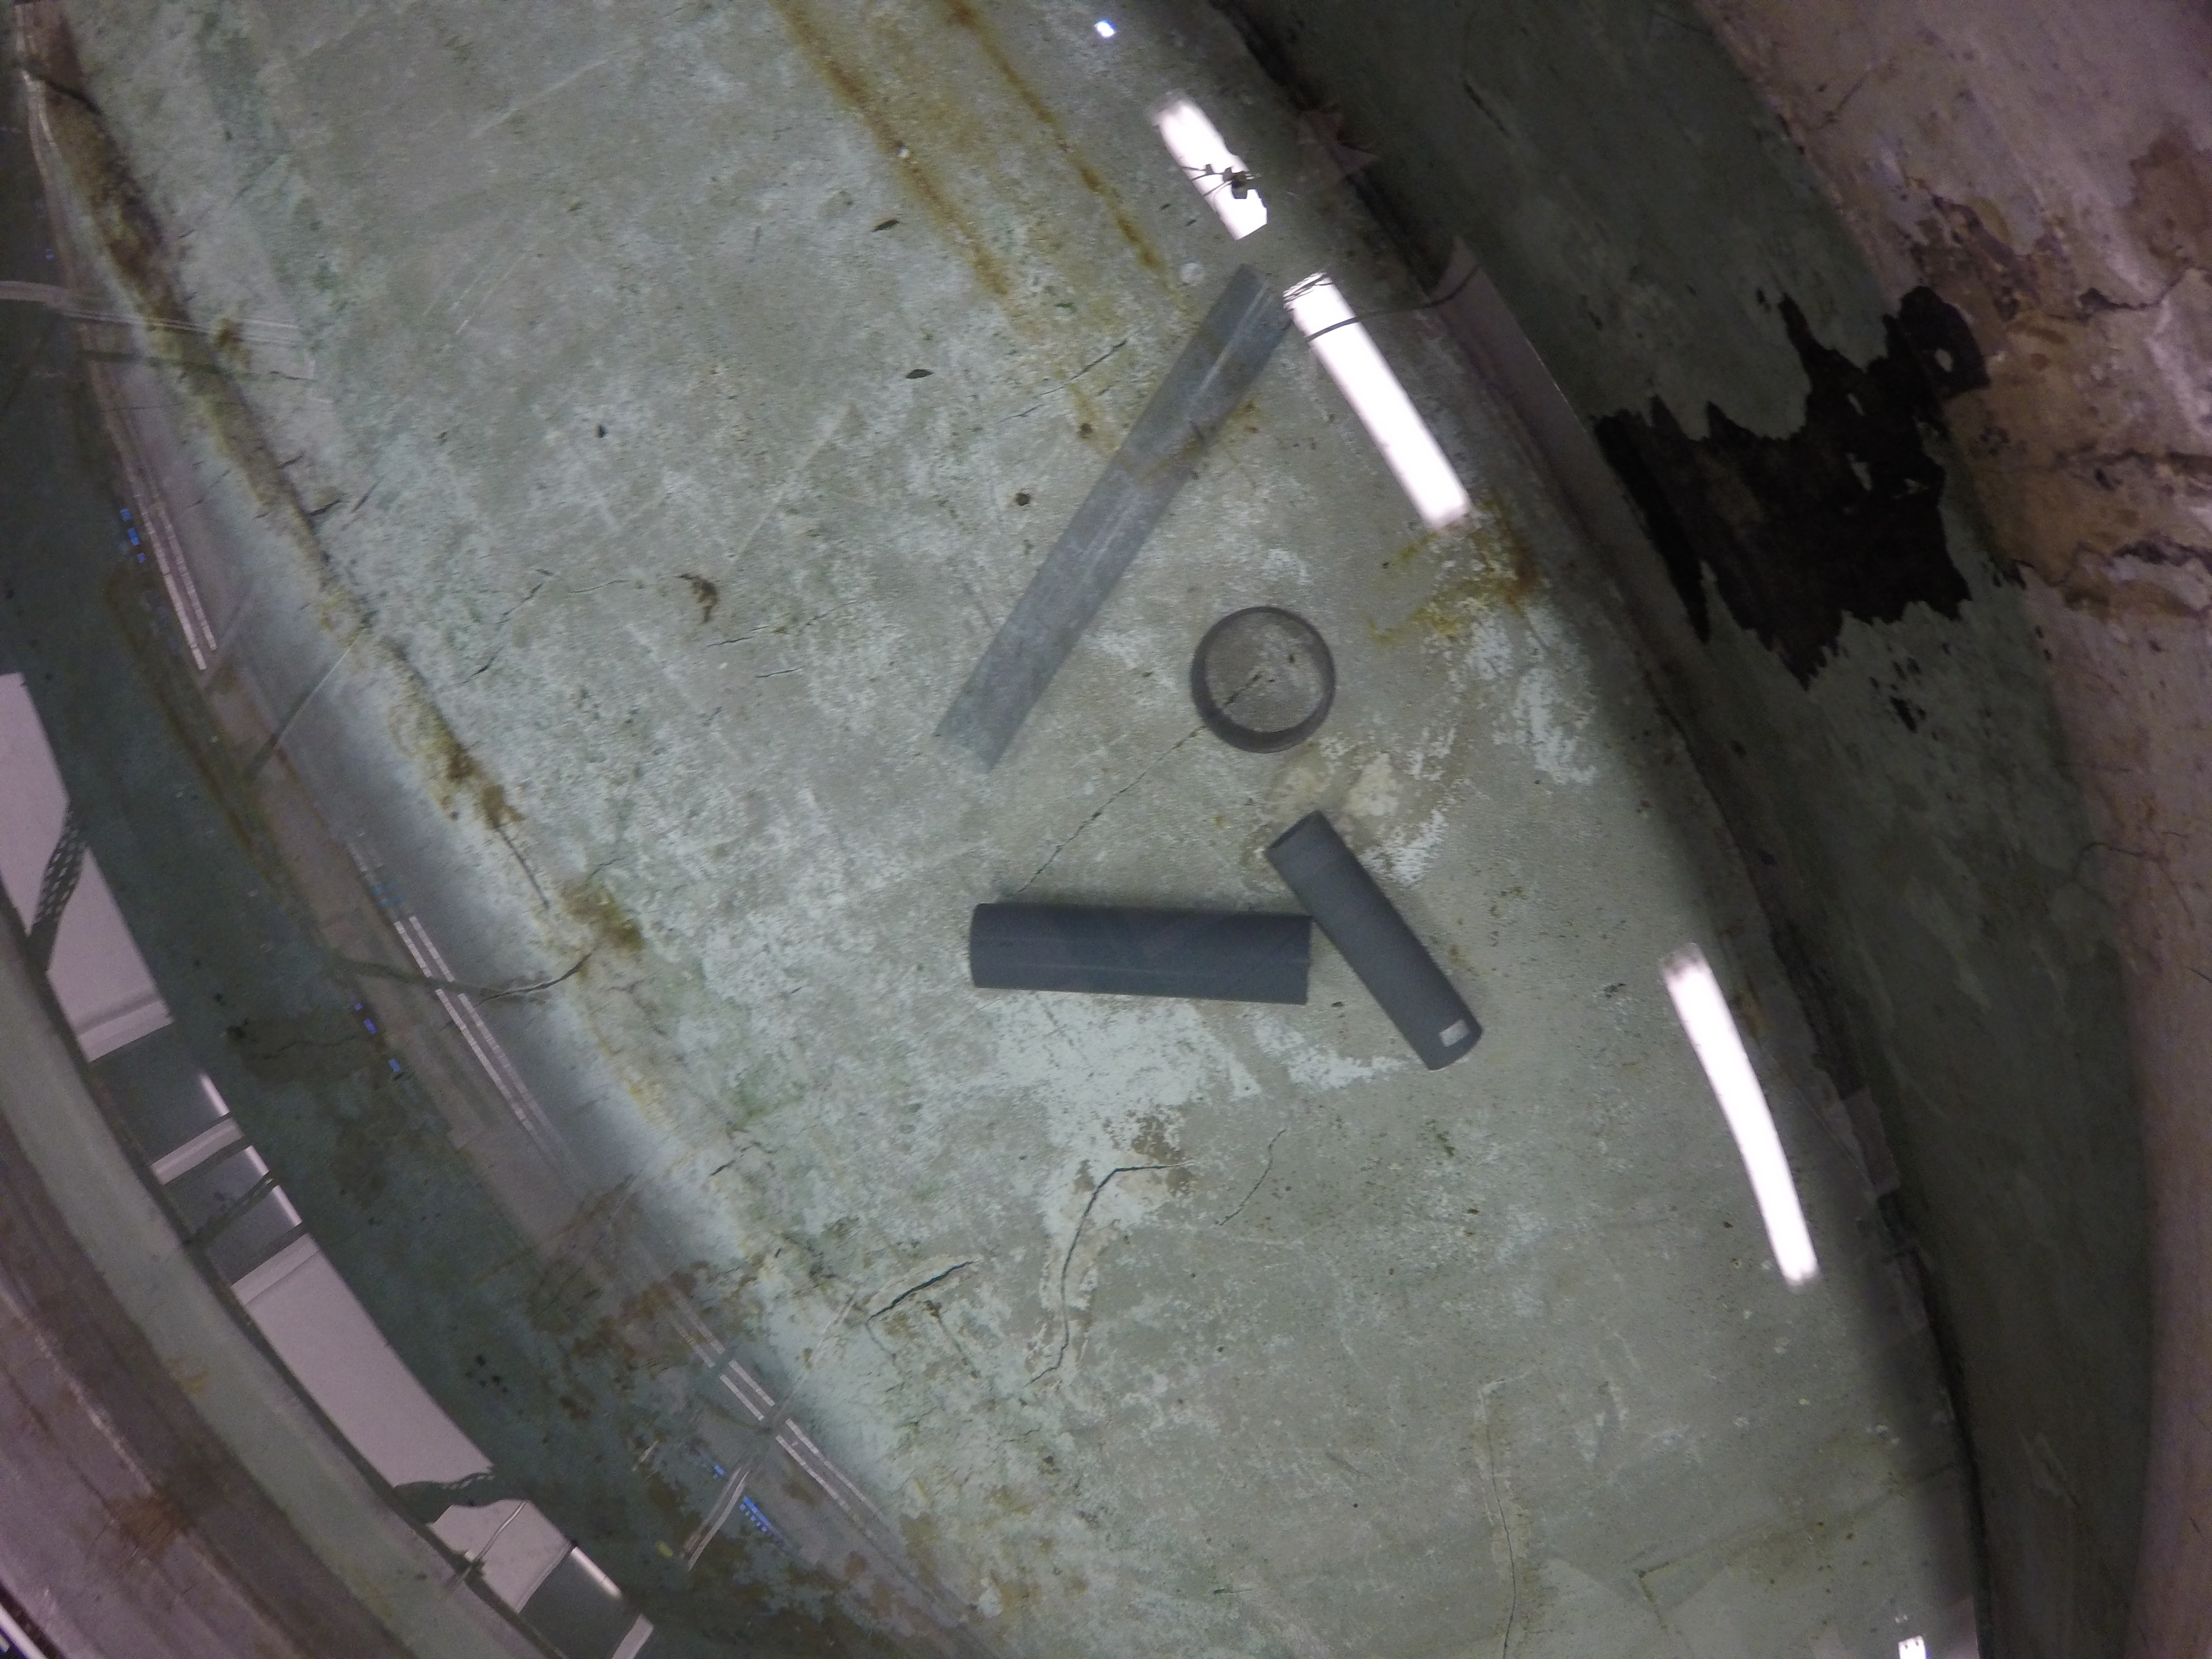pipe: (935, 263, 1292, 774), (1264, 809, 1484, 1073), (968, 899, 1313, 1009), (1188, 606, 1336, 753)
